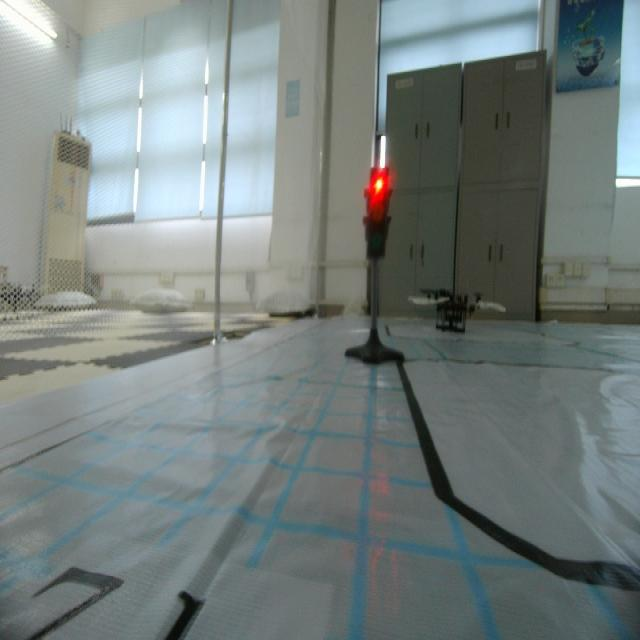red: (359, 162, 394, 264)
